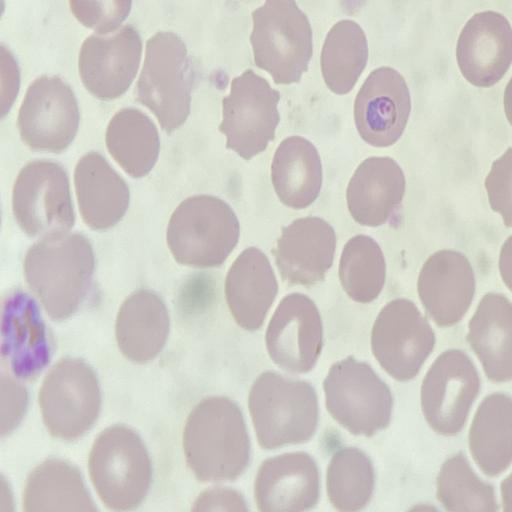Infected: (353, 67, 411, 146), (2, 292, 50, 376)
Uninfected: (23, 229, 95, 318), (182, 397, 252, 479), (138, 31, 196, 128), (247, 371, 318, 448), (87, 426, 152, 509), (166, 194, 239, 267), (322, 358, 390, 435), (249, 2, 313, 82), (220, 72, 280, 156), (370, 299, 432, 380), (420, 350, 480, 432), (38, 360, 101, 438), (17, 75, 81, 151), (11, 160, 74, 237), (264, 293, 323, 373), (73, 151, 132, 231), (79, 27, 142, 99), (226, 248, 281, 329), (417, 250, 474, 326), (273, 216, 336, 284), (455, 11, 512, 86), (346, 158, 405, 227), (113, 291, 169, 363), (104, 108, 161, 178), (253, 452, 318, 512), (23, 461, 101, 511), (271, 137, 324, 210), (468, 294, 511, 378), (321, 20, 368, 93), (468, 394, 511, 471), (339, 237, 387, 304), (325, 449, 375, 510), (437, 455, 493, 509)
